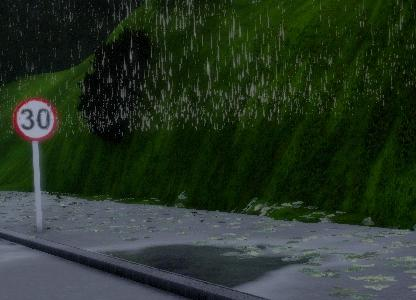Speed_30: (8, 95, 58, 142)
